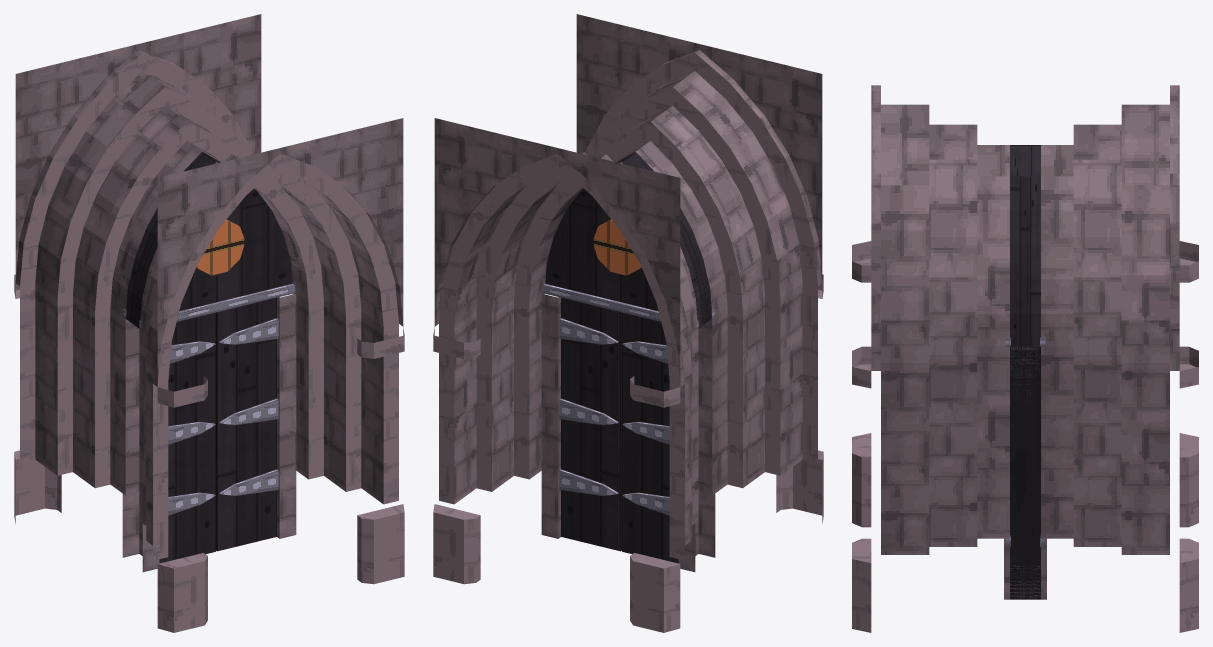
The model's file is door_boss_c.glb.
3 renders of one model, left to right at view 1: azimuth 30°, elevation 25°; view 2: azimuth 150°, elevation 25°; view 3: azimuth 270°, elevation 25°, orthographic. The views are drawn at different scales.
Parts seen in each view (by area): view 1: portal_back, portal_front, leaf_a, portal, leaf_b; view 2: portal_front, portal_back, leaf_a, portal, leaf_b; view 3: portal_front, portal_back, leaf_a, portal.
Part boxes in pixels (x1=…): portal_back: x1=14, y1=14, x2=279, y2=557; portal_front: x1=139, y1=118, x2=404, y2=632; leaf_a: x1=216, y1=297, x2=278, y2=551; portal: x1=123, y1=152, x2=295, y2=329; leaf_b: x1=159, y1=312, x2=215, y2=563; portal_front: x1=558, y1=14, x2=823, y2=557; portal_back: x1=433, y1=118, x2=698, y2=632; leaf_a: x1=559, y1=297, x2=621, y2=551; portal: x1=542, y1=152, x2=714, y2=329; leaf_b: x1=622, y1=312, x2=678, y2=563; portal_front: x1=852, y1=85, x2=1025, y2=632; portal_back: x1=1025, y1=85, x2=1198, y2=632; leaf_a: x1=1006, y1=346, x2=1044, y2=599; portal: x1=1005, y1=145, x2=1045, y2=346.
Size of the model in its own units: 2 by 3.5 by 2.25.
1 material, 1 textured.
